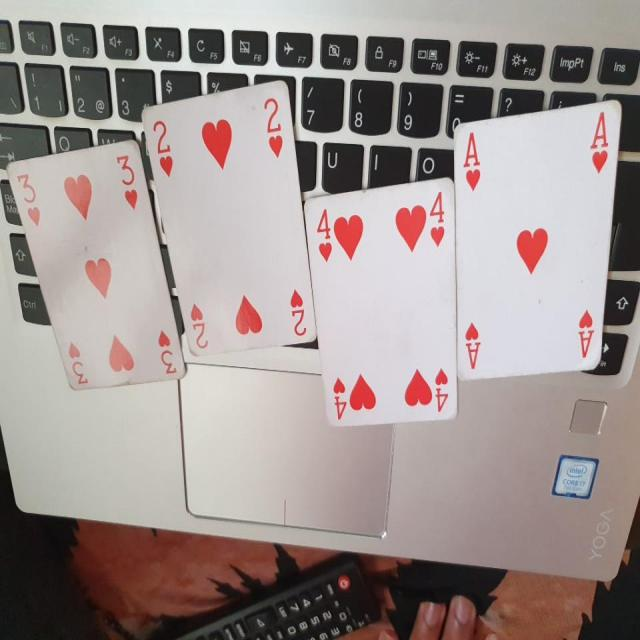2 Hearts: (130, 66, 319, 356)
3 Hearts: (3, 134, 189, 385)
4 Hearts: (303, 174, 468, 431)
A Hearts: (448, 90, 620, 387)
